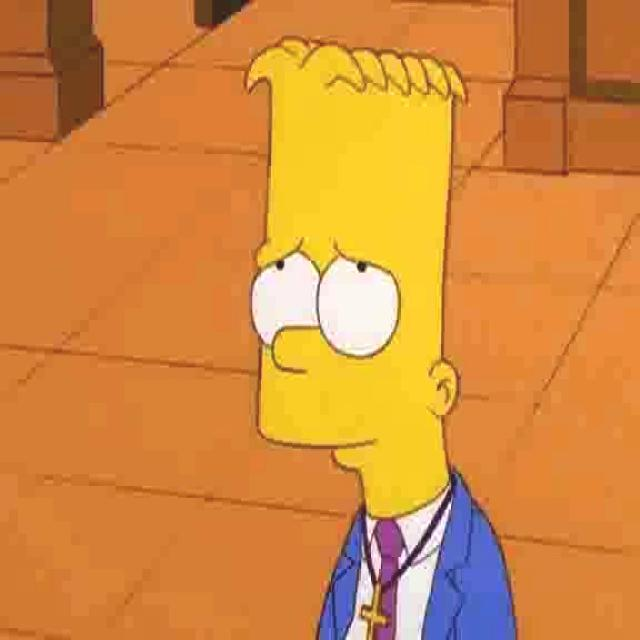Bart Simpson: (243, 30, 472, 524)
